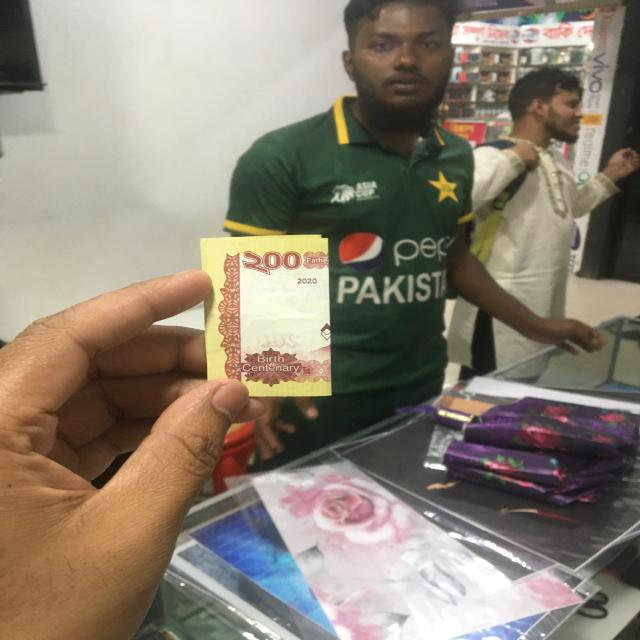Taka: (206, 235, 327, 387)
